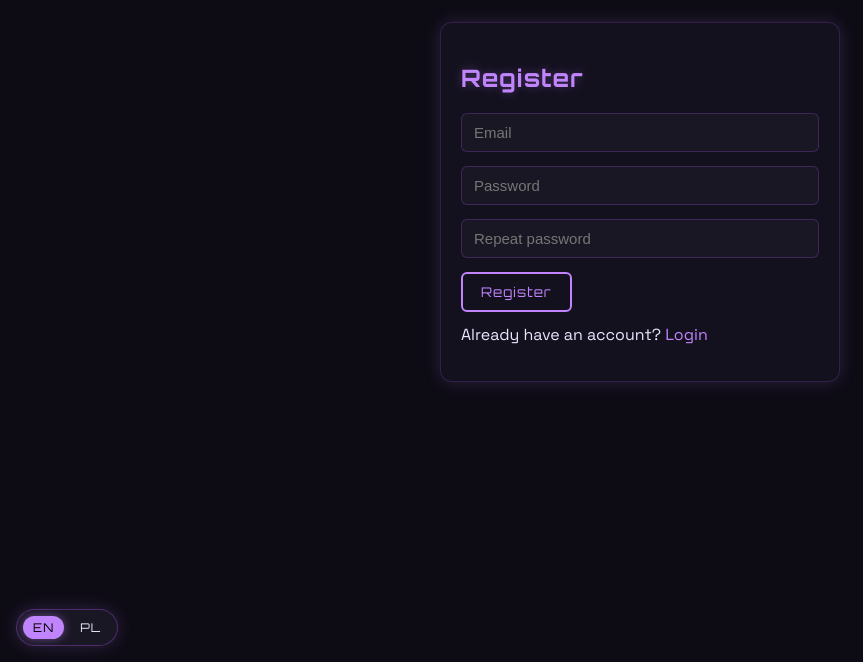
Test case: RegisterPage › shows an error when passwords do not match
In the field with placeholder "Email": (640, 132) [461, 113, 819, 152], type "user@example.com"
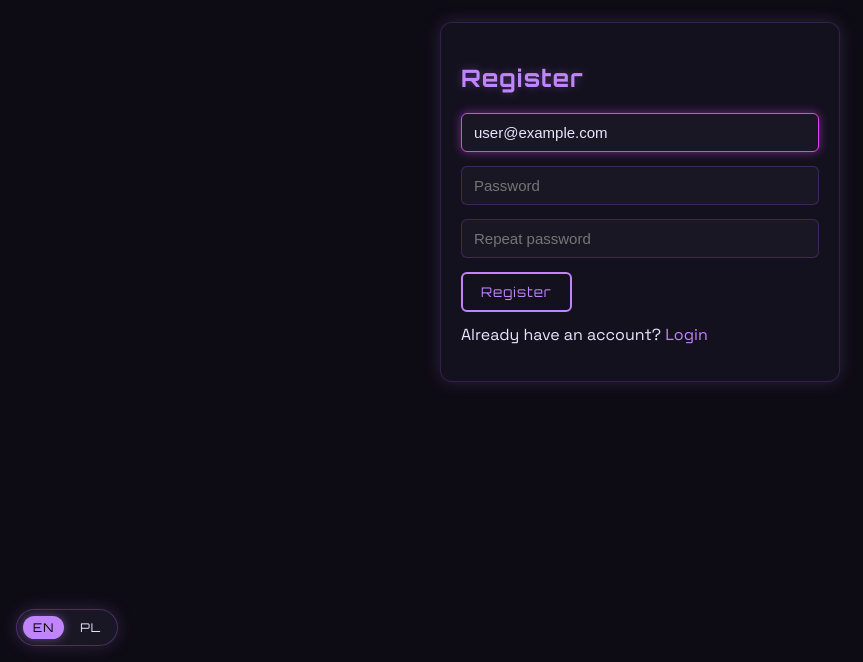
In the password field with placeholder "Password": (640, 185) [461, 166, 819, 205], type "Secret123!"
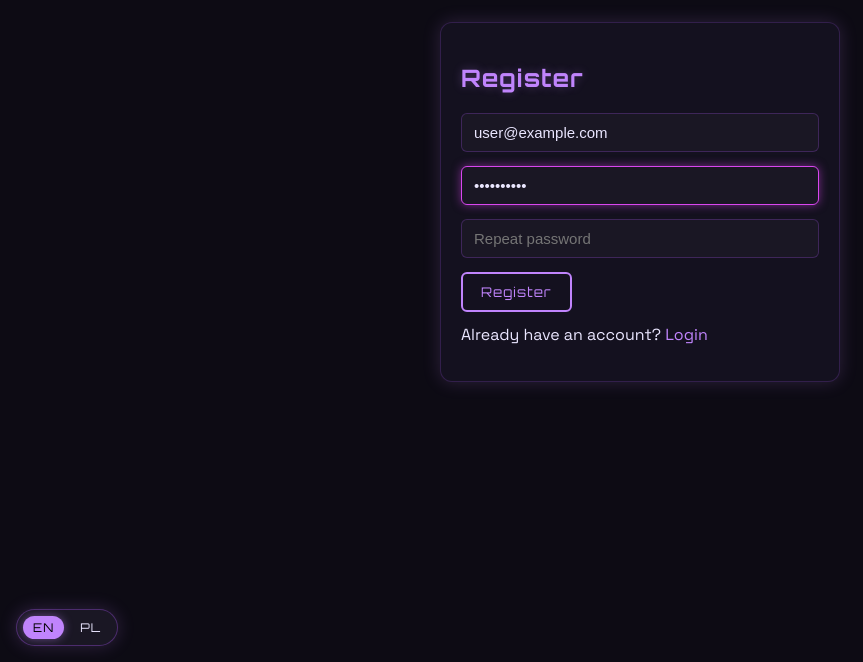
In the password field with placeholder "Repeat password": (640, 238) [461, 219, 819, 258], type "Different123!"
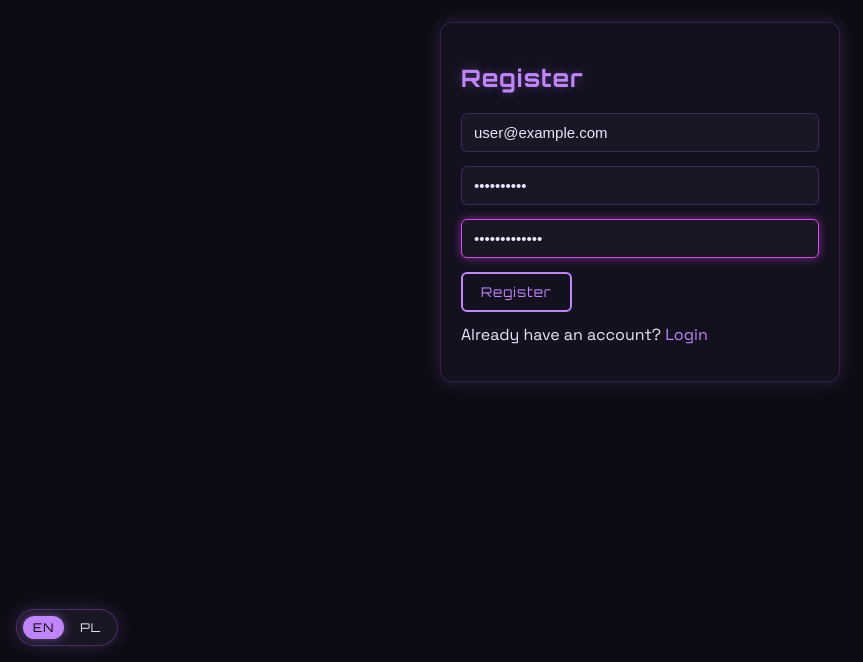
Click the button "Register": (516, 292) [461, 272, 572, 312]
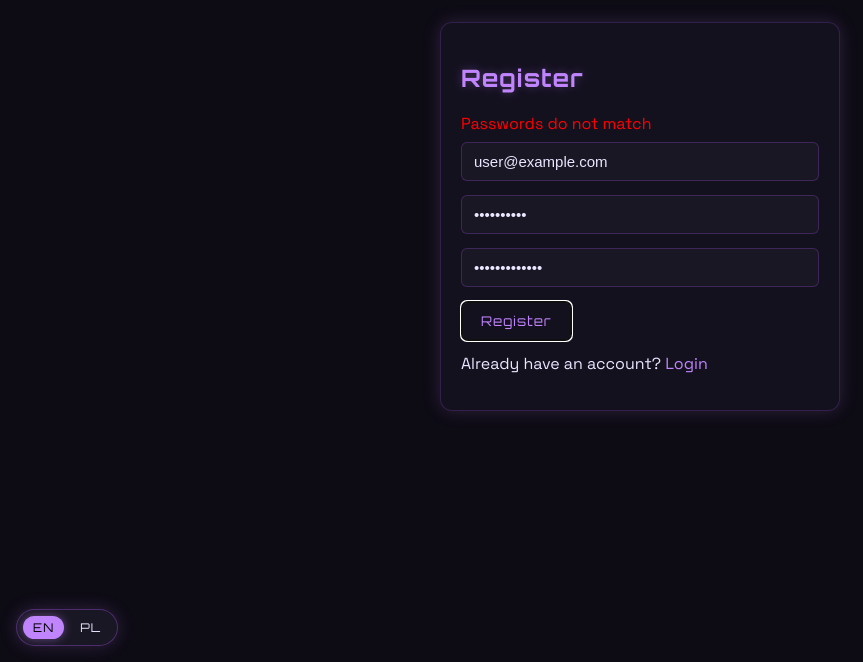
Check: the text "Passwords do not match" is shown, box [461, 113, 652, 134]
